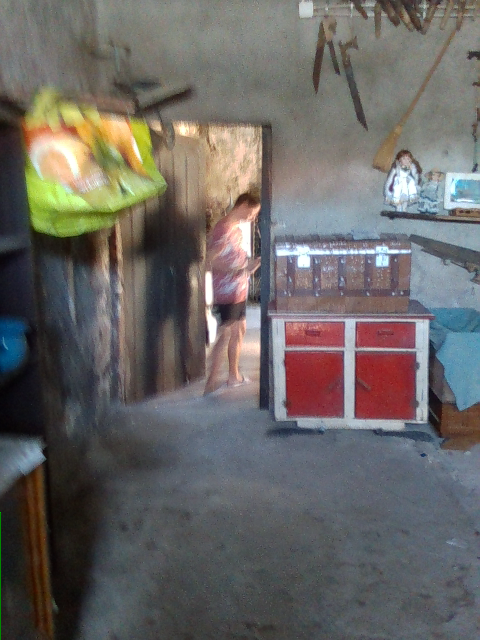semi: (117, 118, 273, 410)
